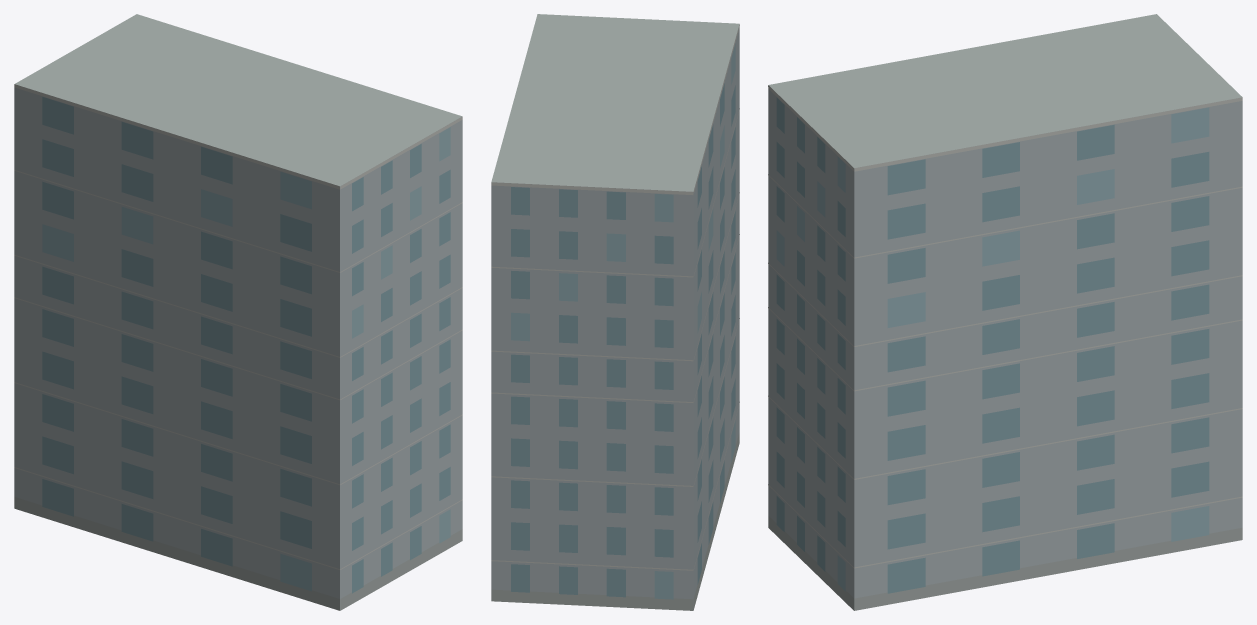
The model's file is survey-upis-32786382.glb.
3 renders of one model, left to right at view 1: azimuth 30°, elevation 25°; view 2: azimuth 150°, elevation 25°; view 3: azimuth 270°, elevation 25°, orthographic. The views are drawn at different scales.
Visible parts, largest first — view 1: survey-upis-32786382.tmp; view 2: survey-upis-32786382.tmp; view 3: survey-upis-32786382.tmp.
Boxes of the visible parts, <box> form: survey-upis-32786382.tmp: <box>14,14,462,610</box>; survey-upis-32786382.tmp: <box>491,14,739,610</box>; survey-upis-32786382.tmp: <box>768,14,1242,610</box>.
Size of the model in its own units: 22.81 by 30.5 by 29.64.
